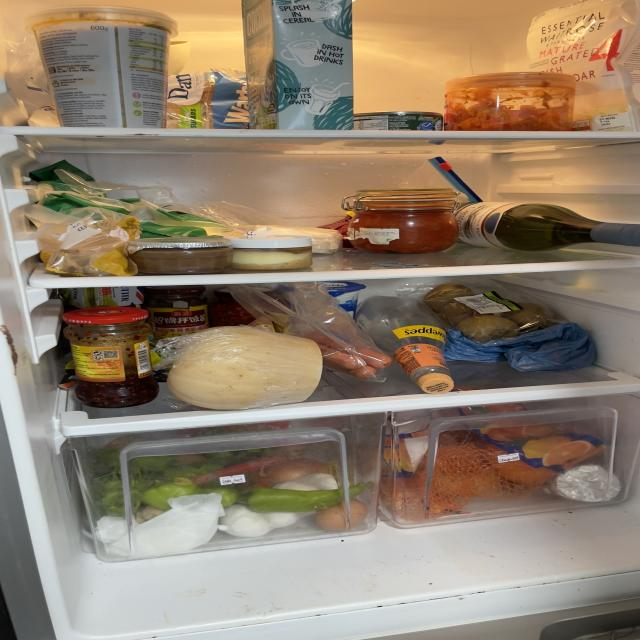Cebolla: (312, 499, 368, 530), (267, 458, 331, 482)
Leche: (255, 0, 358, 130)
Queso: (526, 5, 640, 133)
